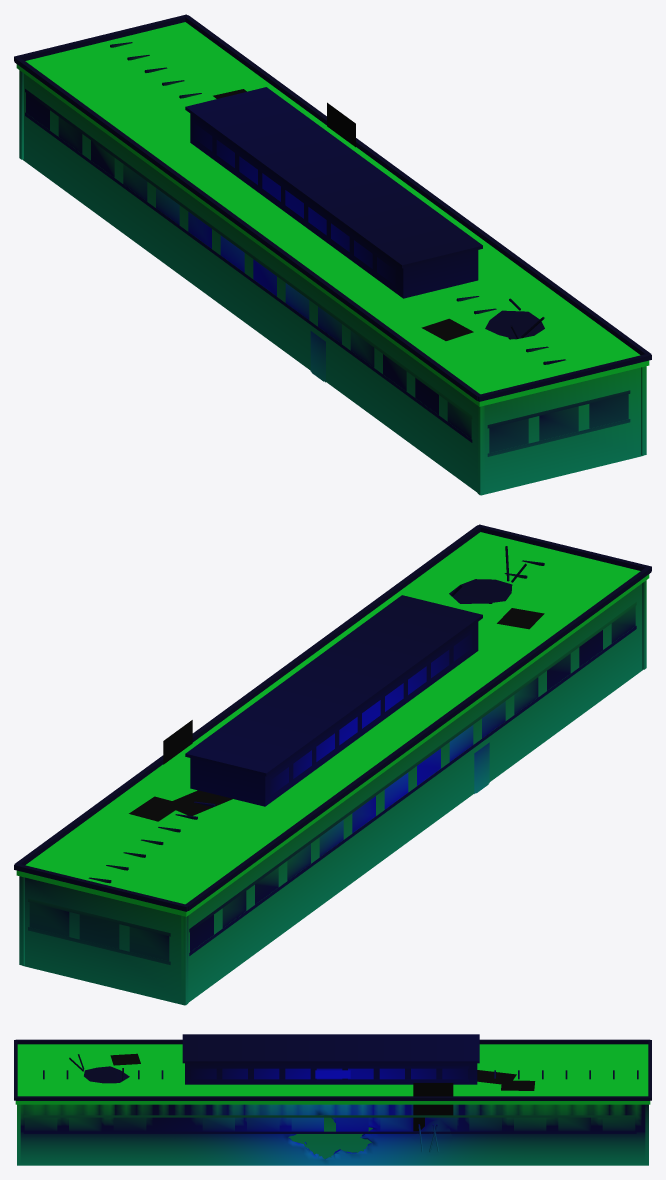
The model's file is s_admin_wing_damaged.glb.
The picture shows the model from 3 angles, top to bottom: view 1: azimuth 30°, elevation 25°; view 2: azimuth 150°, elevation 25°; view 3: azimuth 270°, elevation 25°; orthographic projection. The views are drawn at different scales.
Visible parts, largest first — view 1: lod0; view 2: lod0; view 3: lod0.
Boxes of the visible parts, box(x1,y1,x2,y2) form: lod0: box(14, 14, 651, 495); lod0: box(14, 524, 651, 1005); lod0: box(14, 1034, 651, 1165).
Size of what is drawn, in the model's own units: 11.6 by 8.45 by 53.7.
